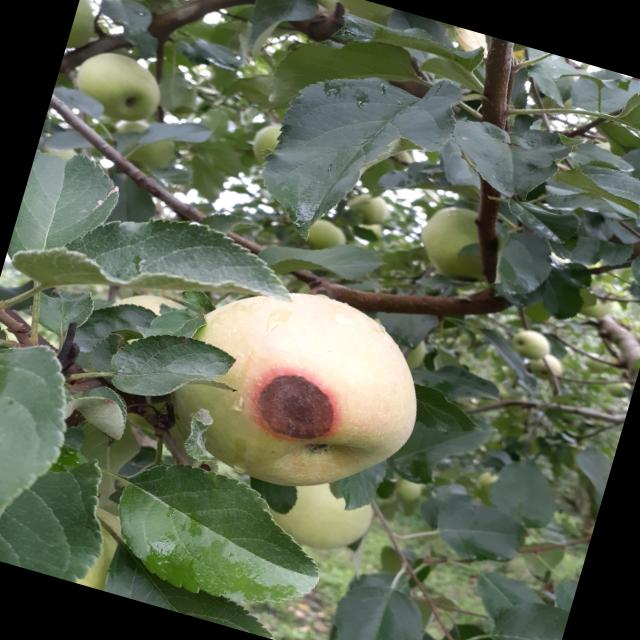rotten: (136, 248, 453, 525)
